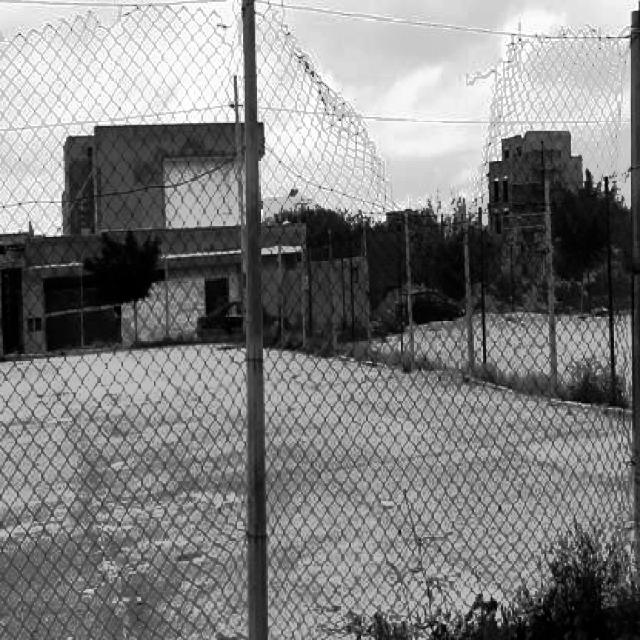anomaly-fence: (263, 3, 640, 258), (0, 0, 237, 49)
